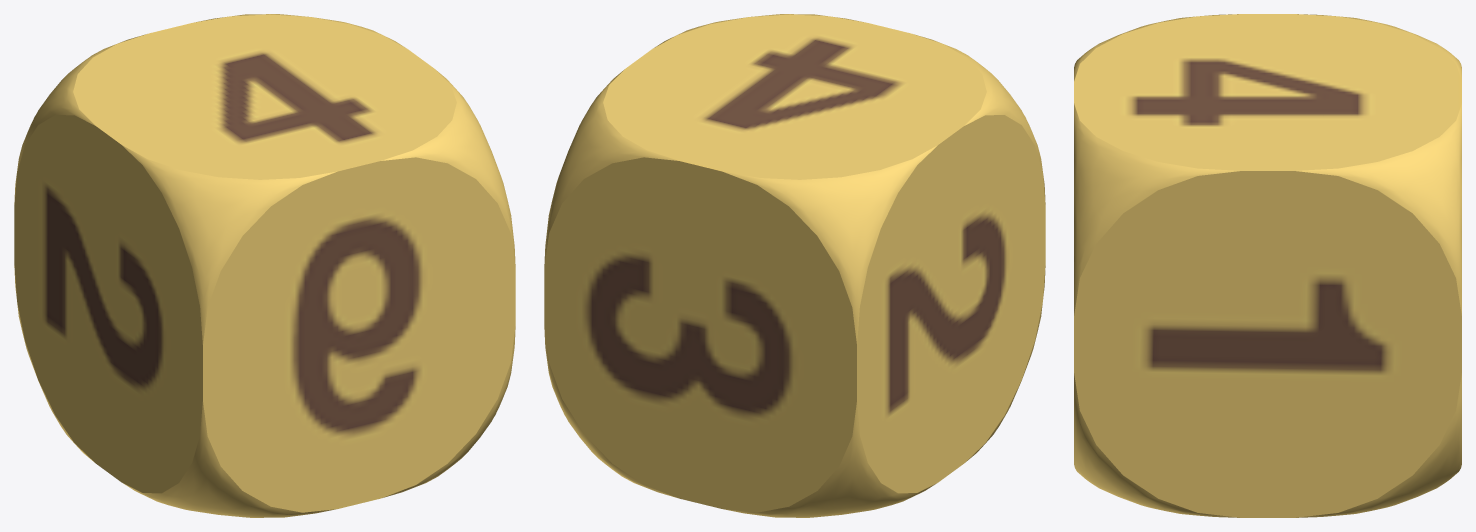
The model's file is Dice.fbx.
3 views of the same model, side by side, from view 1: azimuth 30°, elevation 25°; view 2: azimuth 150°, elevation 25°; view 3: azimuth 270°, elevation 25° (orthographic). The views are drawn at different scales.
Parts seen in each view (by area): view 1: Dice 001; view 2: Dice 001; view 3: Dice 001.
Part boxes in pixels (x1,y1,x2,y2): Dice 001: (14,14,515,517); Dice 001: (544,14,1045,517); Dice 001: (1074,14,1461,517).
Size of the model in its own units: 7.71 by 7.95 by 8.05.
Materials: 1 (1 with a texture image).
